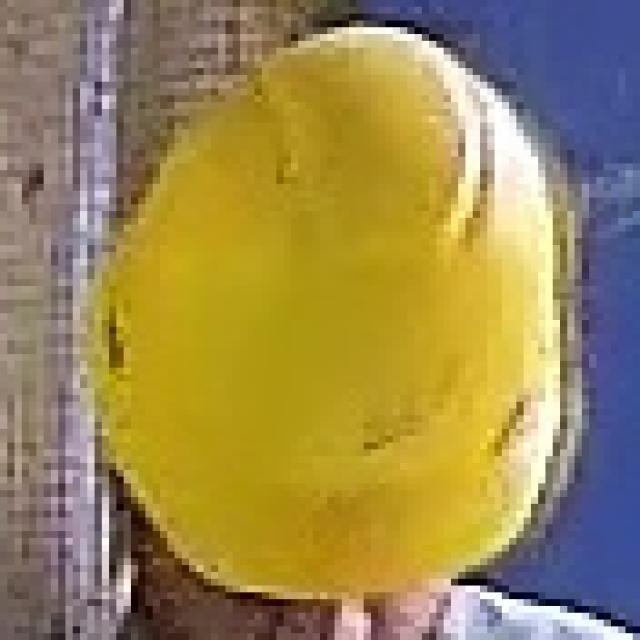yellow helmet: (84, 34, 584, 596)
